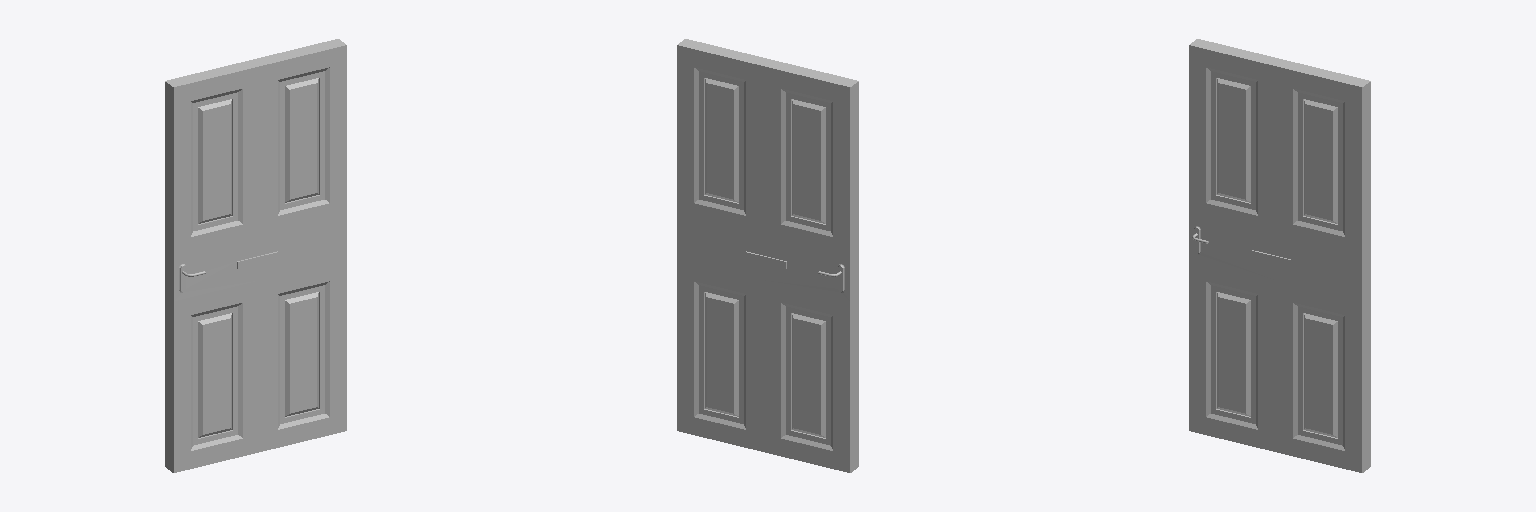
Rendered from uploads_files_2494402_Door.obj.
3 renders of one model, left to right at view 1: azimuth 30°, elevation 25°; view 2: azimuth 150°, elevation 25°; view 3: azimuth 330°, elevation 25°, orthographic.
Parts seen in each view (by area): view 1: Cube_Cube.001; view 2: Cube_Cube.001; view 3: Cube_Cube.001.
Boxes of the visible parts, x1=… form: Cube_Cube.001: x1=165, y1=39, x2=346, y2=472; Cube_Cube.001: x1=677, y1=39, x2=858, y2=472; Cube_Cube.001: x1=1189, y1=39, x2=1370, y2=472.
Bounding box in the file's own units: 0.9746 × 2.07 × 0.2198.